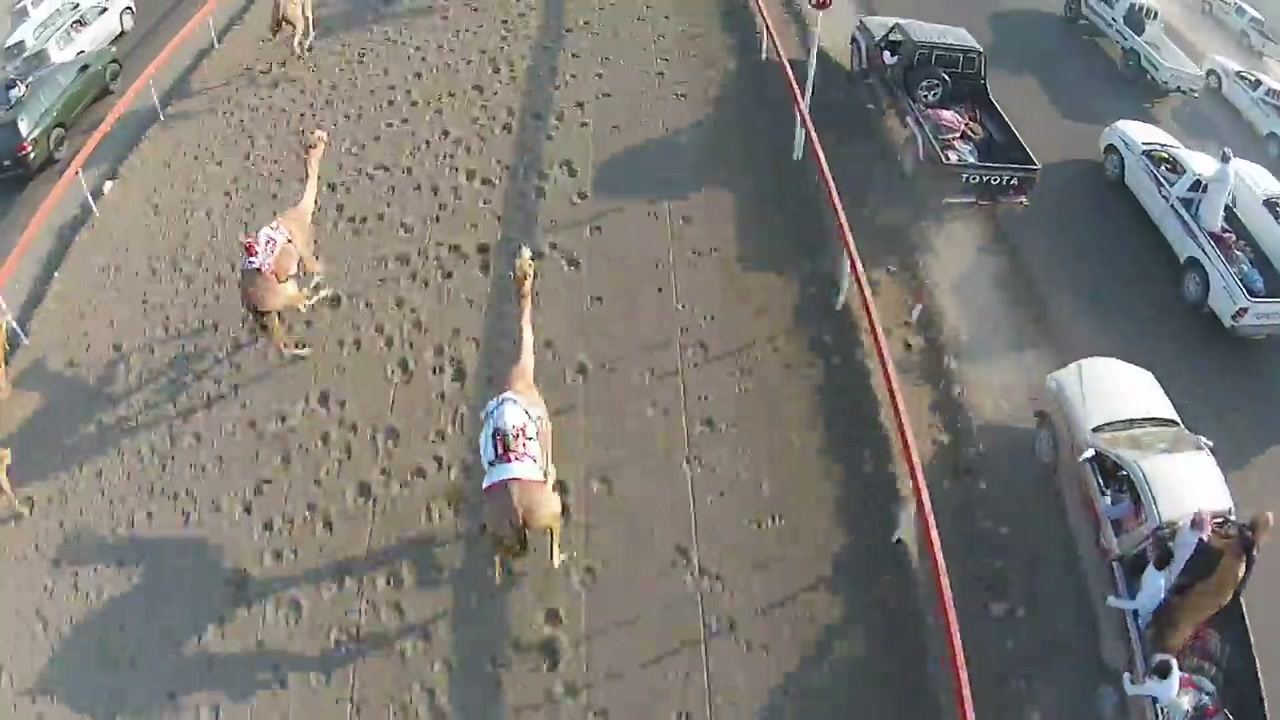animal_footprint: (315, 31, 524, 719), (519, 4, 637, 711)
